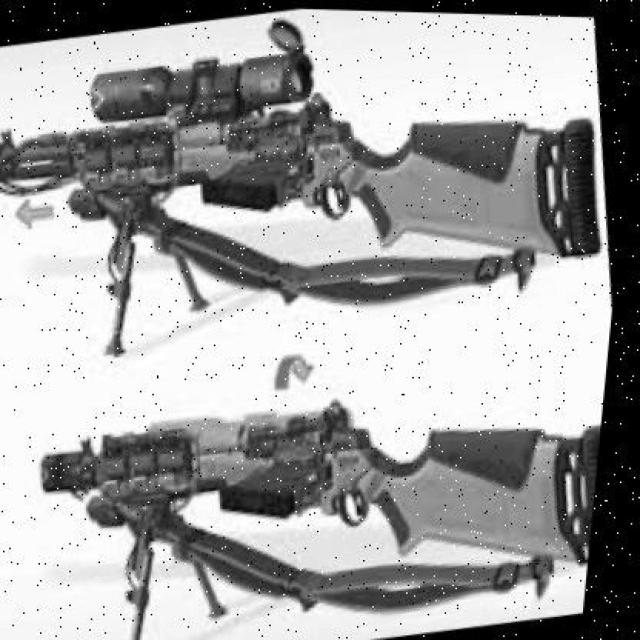weapon: (1, 18, 601, 360), (42, 398, 601, 640)
